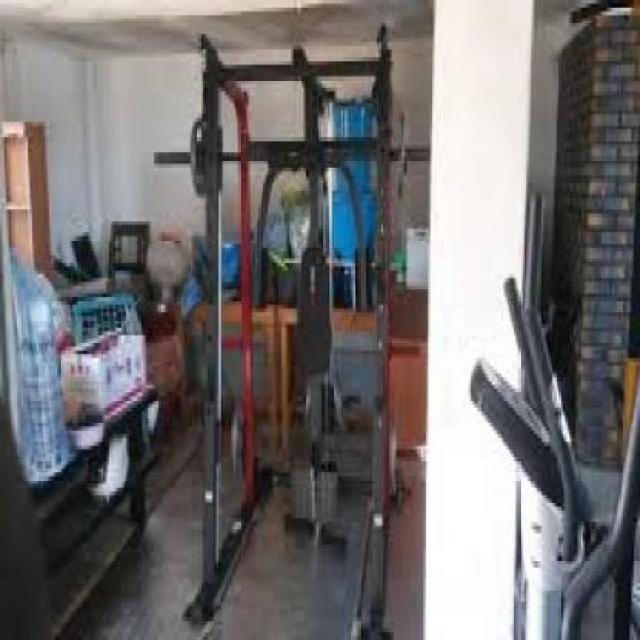smith machine: (155, 27, 430, 640)
